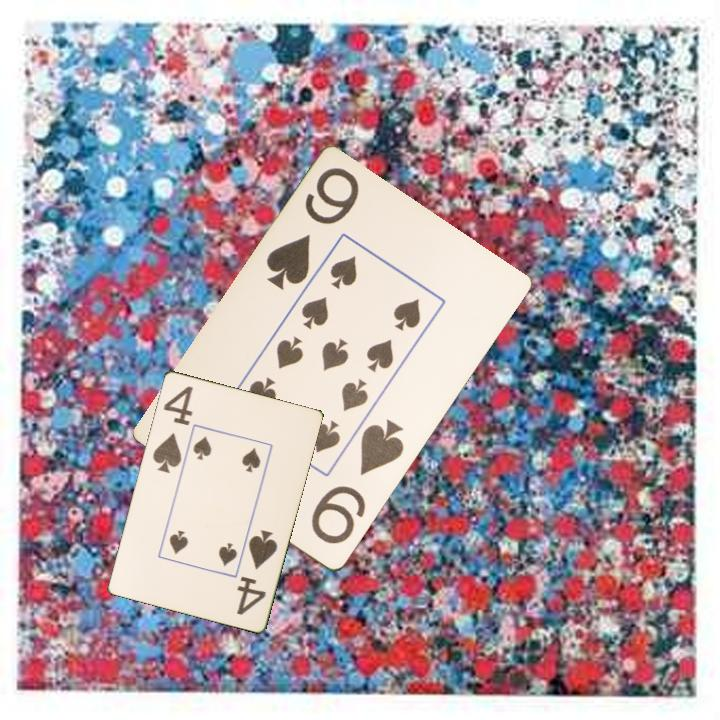4s: (149, 382, 196, 475), (233, 526, 280, 617)
9s: (307, 416, 408, 548), (262, 164, 363, 294)
